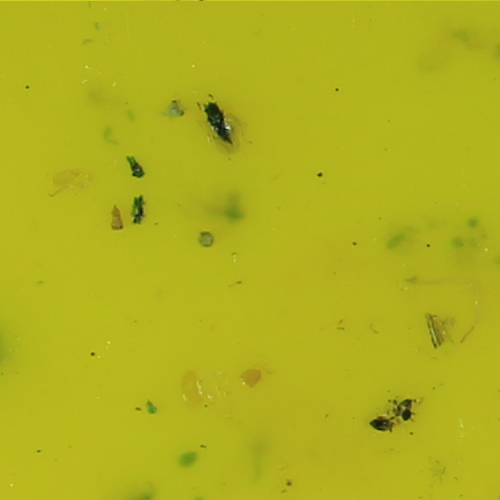wasp: (196, 98, 239, 149)
